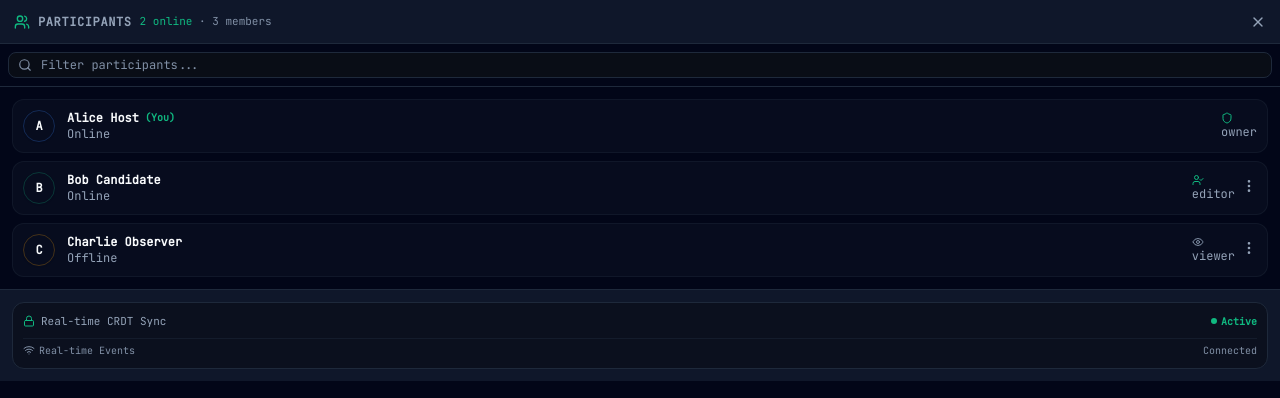
Test: MembersPanel component › renders three-dot contextual menu with separate Kick and Permanently Ban actions
The width and height of the screenshot is (1280, 398).
Click the button with test id "member-actions-mem-2" at x=1249, y=186, box [1241, 178, 1257, 194]
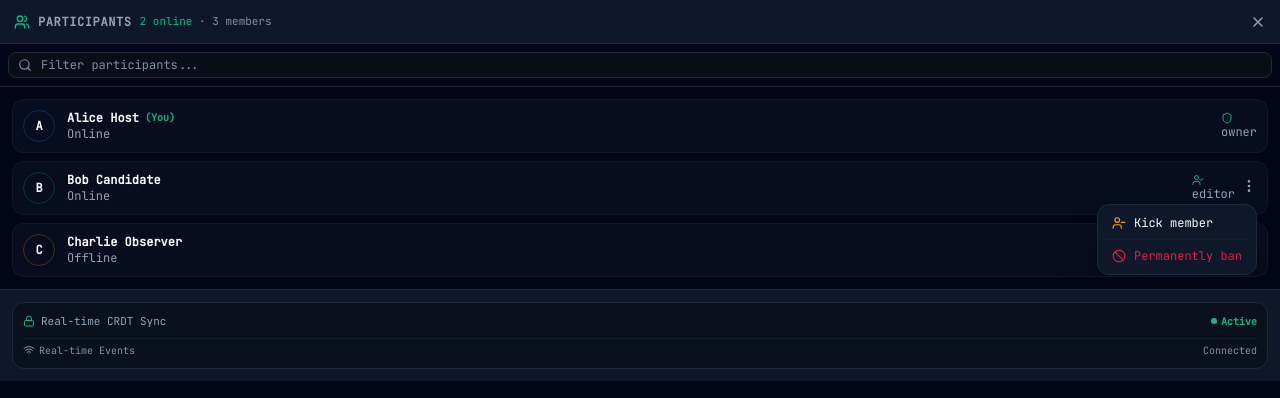
expect the button with test id "kick-member-option-mem-2" is shown: met, box [1102, 209, 1252, 237]
expect the button with test id "ban-member-option-mem-2" is shown: met, box [1102, 242, 1252, 270]
